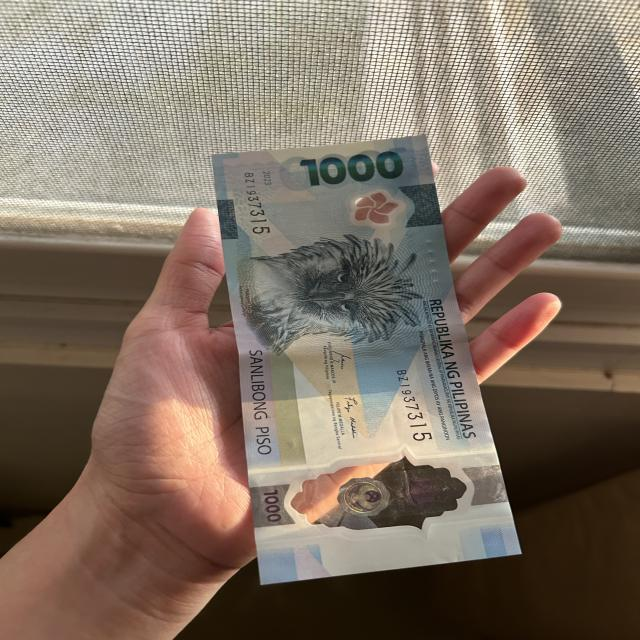clear_window: (274, 454, 492, 533)
eagle: (244, 238, 441, 339)
sampaguita: (344, 190, 404, 228)
